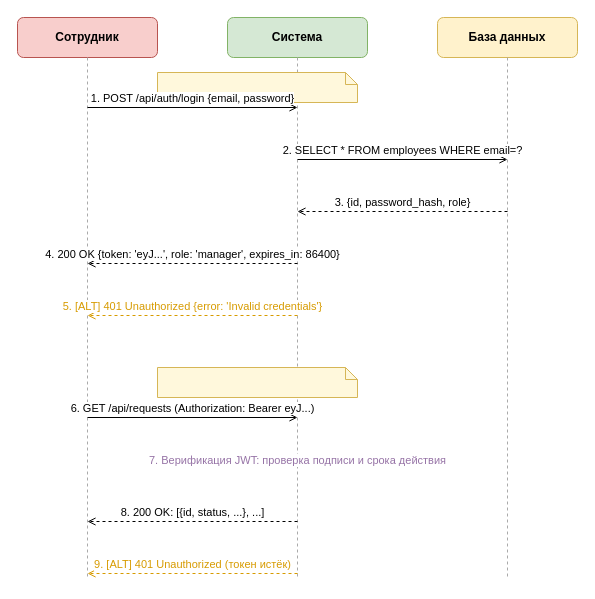
Image size: 595x599. Some labels were removed from this diagram. Here are the shapes that lost their labels. From the top down, the box of each, then its label:
(156, 72, 358, 102): Вход в систему
(156, 366, 358, 398): Использование токена
